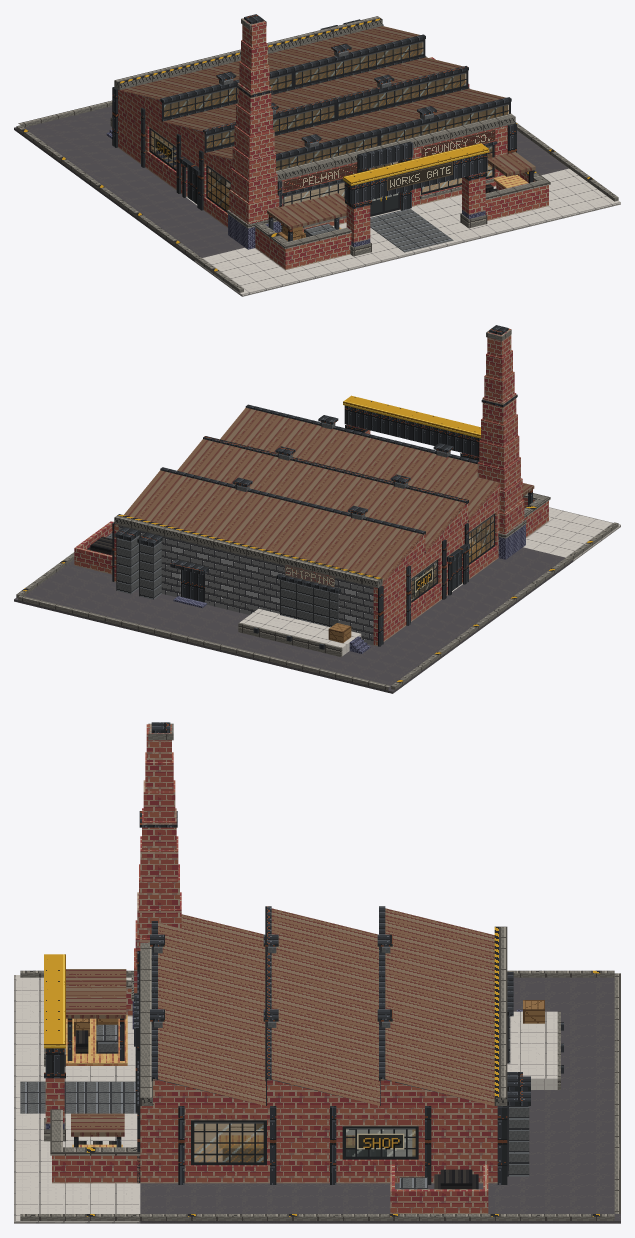
File: foundry-factory-pelham.glb
3 renders of one model, top to bottom at view 1: azimuth 30°, elevation 25°; view 2: azimuth 150°, elevation 25°; view 3: azimuth 270°, elevation 25°, orthographic. The views are drawn at different scales.
Parts seen in each view (by area): view 1: structure, lot, foundry_yard, yard_gantry; view 2: structure, lot, service_yard, yard_gantry, foundry_yard; view 3: structure, lot, foundry_yard, service_yard, yard_gantry.
Boxes of the visible parts, box(x1,y1,x2,y2) form: structure: box(112, 14, 516, 249); lot: box(14, 56, 620, 296); foundry_yard: box(254, 152, 550, 270); yard_gantry: box(343, 143, 489, 256); structure: box(112, 325, 526, 646); lot: box(14, 507, 620, 693); service_yard: box(74, 521, 370, 656); yard_gantry: box(343, 395, 480, 460); foundry_yard: box(522, 483, 550, 537); structure: box(131, 722, 507, 1184); lot: box(14, 970, 620, 1223); foundry_yard: box(50, 969, 140, 1183); service_yard: box(390, 972, 563, 1213); yard_gantry: box(44, 954, 65, 1141).
Size of what is drawn, in the model's own units: 28.56 by 15.99 by 29.8.
13 materials, 13 textured.
